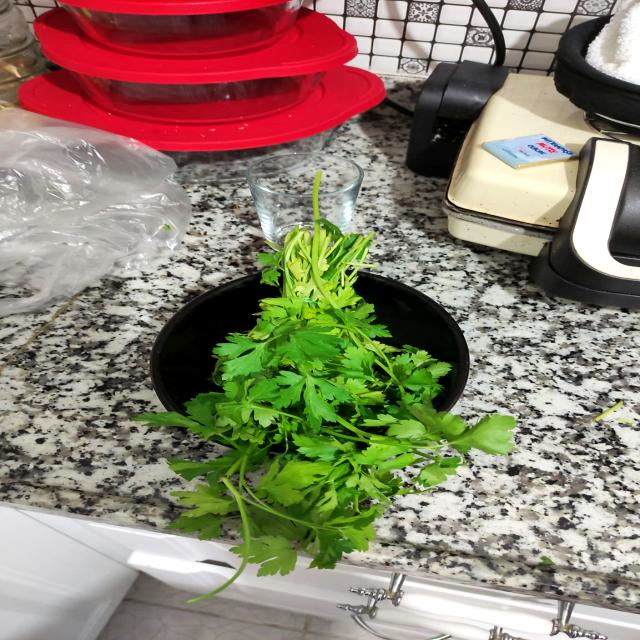parsley: (131, 201, 531, 581)
